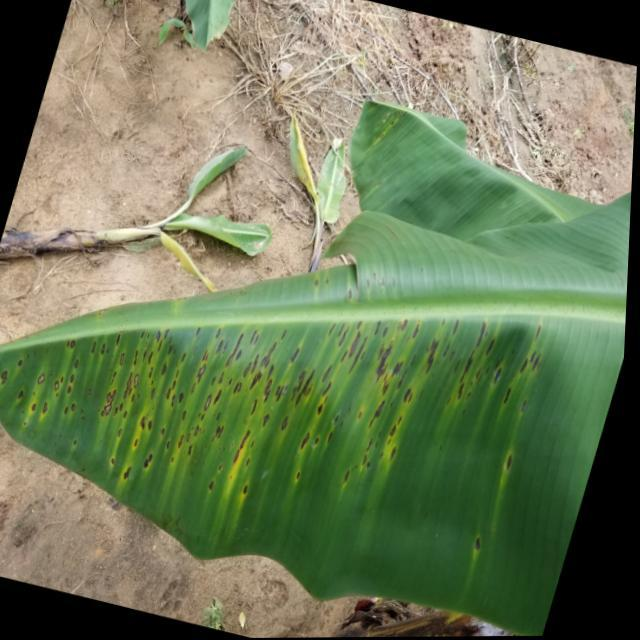Early_rust: (0, 260, 563, 604)
